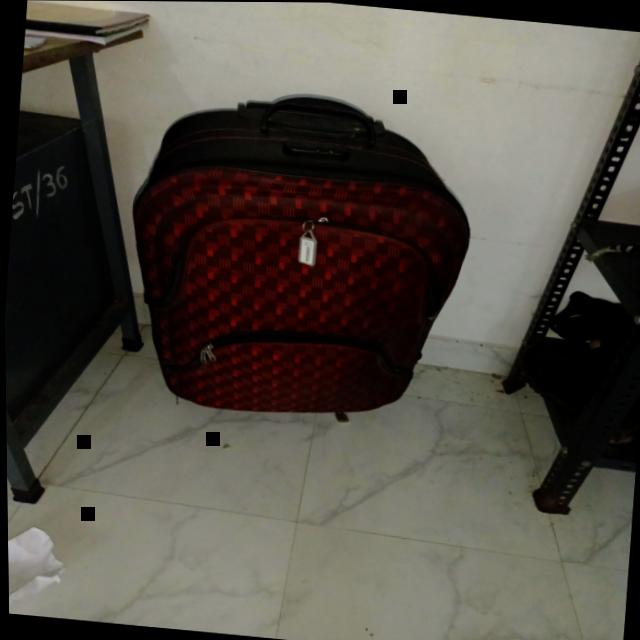luggage: (103, 69, 492, 441)
